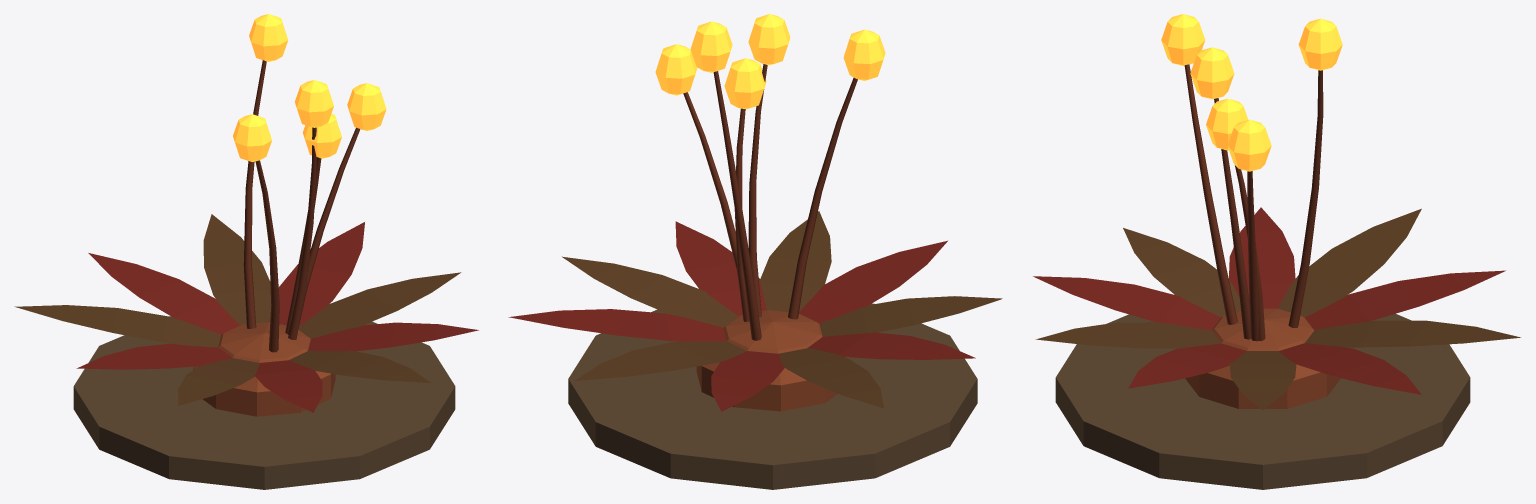
The model's file is glutwurz.glb.
3 views of the same model, side by side, from view 1: azimuth 30°, elevation 25°; view 2: azimuth 150°, elevation 25°; view 3: azimuth 270°, elevation 25° (orthographic). The views are drawn at different scales.
Visible parts, largest first — view 1: glutwurz; view 2: glutwurz; view 3: glutwurz.
Boxes of the visible parts, x1=… form: glutwurz: x1=14, y1=14, x2=478, y2=489; glutwurz: x1=508, y1=14, x2=1002, y2=489; glutwurz: x1=1033, y1=14, x2=1520, y2=489.
Size of the model in its own units: 0.3506 by 0.3254 by 0.3545.
